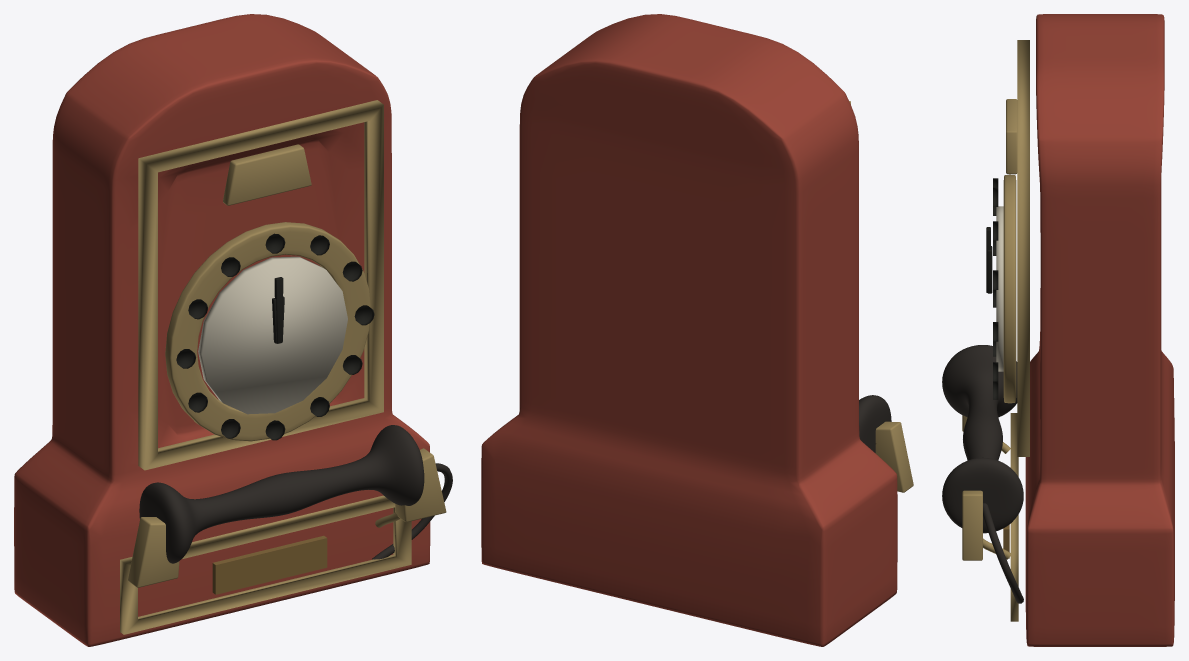
The model's file is heldout_vintage_telephone.glb.
3 views of the same model, side by side, from view 1: azimuth 30°, elevation 25°; view 2: azimuth 150°, elevation 25°; view 3: azimuth 270°, elevation 25° (orthographic).
Parts seen in each view (by area): view 1: Main_Housing, Upper_Face_Trim, Clock_Face, Dial_Bezel, Handset, Lower_Panel_Trim, Telephone_Baked_Badge, Top_Latch, Cradle_Left, Cradle_Right, Handset_Cord; view 2: Main_Housing, Cradle_Left, Handset; view 3: Main_Housing, Handset, Upper_Face_Trim, Dial_Bezel, Cradle_Right, Lower_Panel_Trim, Clock_Face, Top_Latch, Handset_Cord.
Boxes of the visible parts, left/top/right/bottom form: Main_Housing: left=14, top=14, right=430, bottom=646; Upper_Face_Trim: left=138, top=100, right=383, bottom=470; Clock_Face: left=198, top=256, right=347, bottom=414; Dial_Bezel: left=165, top=222, right=370, bottom=441; Handset: left=139, top=425, right=424, bottom=563; Lower_Panel_Trim: left=120, top=495, right=411, bottom=634; Telephone_Baked_Badge: left=212, top=535, right=327, bottom=594; Top_Latch: left=223, top=144, right=311, bottom=205; Cradle_Left: left=128, top=517, right=179, bottom=587; Cradle_Right: left=395, top=448, right=446, bottom=522; Handset_Cord: left=372, top=463, right=452, bottom=559; Main_Housing: left=481, top=14, right=897, bottom=646; Cradle_Left: left=875, top=421, right=913, bottom=492; Handset: left=859, top=395, right=891, bottom=452; Main_Housing: left=1025, top=14, right=1174, bottom=646; Handset: left=942, top=345, right=1023, bottom=533; Upper_Face_Trim: left=1017, top=40, right=1029, bottom=456; Dial_Bezel: left=1003, top=174, right=1016, bottom=403; Cradle_Right: left=962, top=490, right=982, bottom=560; Lower_Panel_Trim: left=1010, top=413, right=1018, bottom=621; Clock_Face: left=996, top=206, right=1003, bottom=371; Top_Latch: left=1006, top=99, right=1017, bottom=174; Handset_Cord: left=983, top=503, right=1023, bottom=603.
Bounding box in the file's own units: 3.49 × 5.01 × 2.02.
